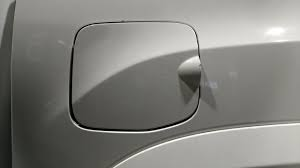closed: (66, 17, 204, 129)
